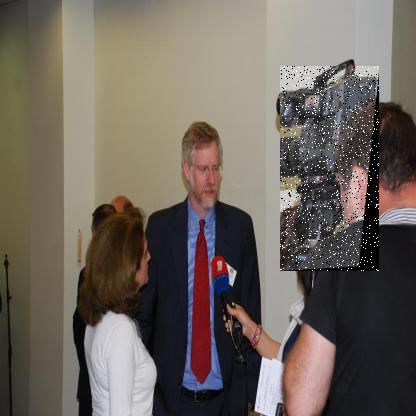Camera: (282, 67, 382, 273)
